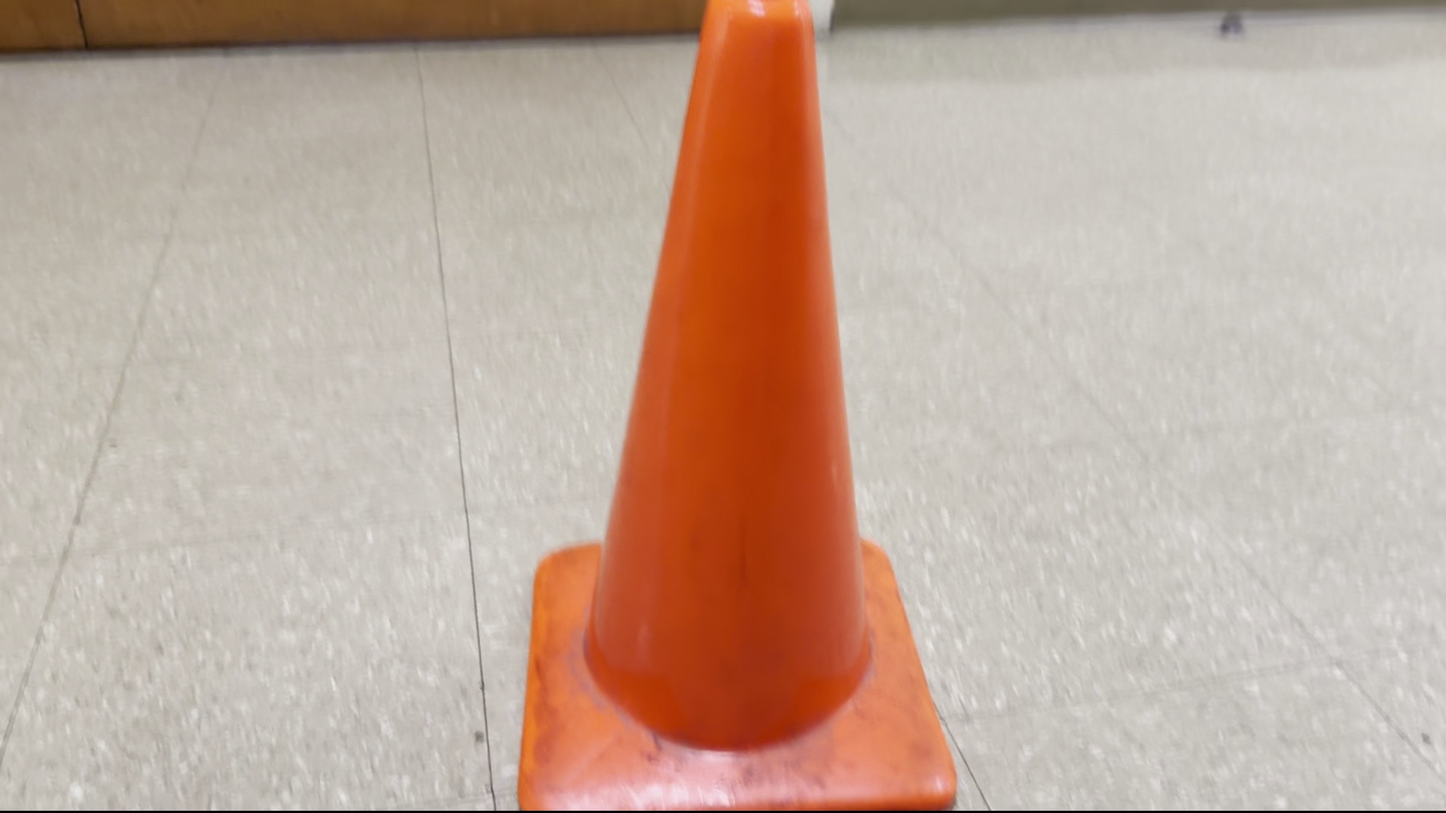traffic_cone: (516, 1, 958, 811)
